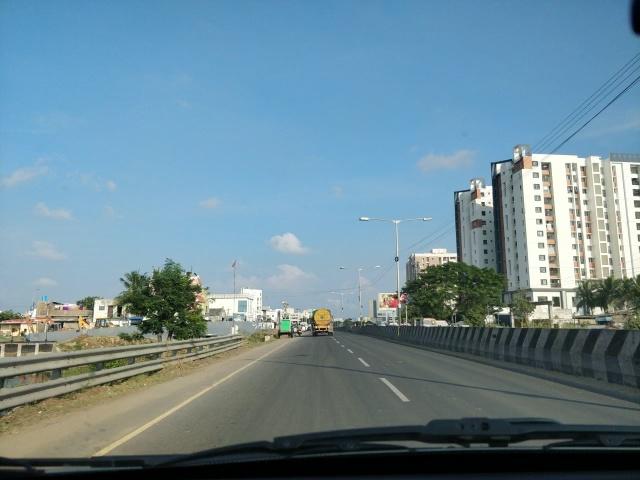motorbike: (297, 324, 303, 336)
truck: (313, 311, 334, 335), (415, 318, 438, 334), (280, 318, 294, 338)
